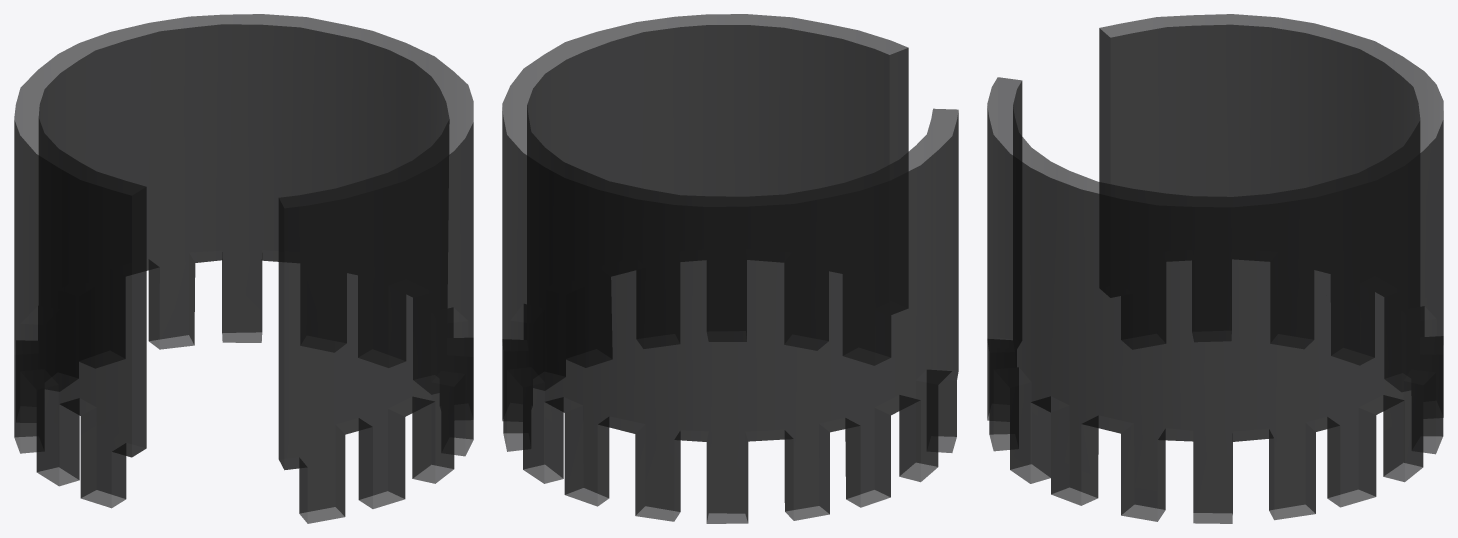
The model's file is collider_colosseum (1).fbx.
The picture shows the model from 3 angles, left to right: view 1: azimuth 30°, elevation 25°; view 2: azimuth 150°, elevation 25°; view 3: azimuth 270°, elevation 25°; orthographic projection.
Visible parts, largest first — view 1: collider_colosseum; view 2: collider_colosseum; view 3: collider_colosseum.
Part boxes in pixels (x1,y1,x2,y2): collider_colosseum: (14,14,473,523); collider_colosseum: (502,14,958,523); collider_colosseum: (987,14,1443,523).
Size of the model in its own units: 70.38 by 53.72 by 70.22.
